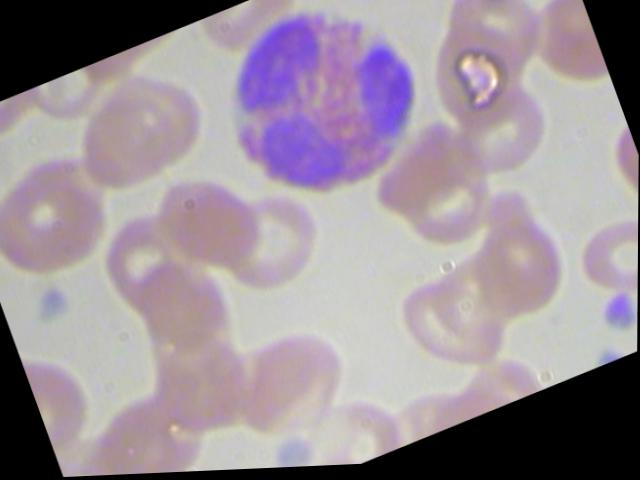Platelets: (26, 275, 84, 336), (590, 292, 637, 343)
Red Blood Cells: (54, 53, 225, 217), (408, 1, 546, 154), (381, 259, 515, 400), (0, 144, 122, 298), (139, 154, 272, 291), (455, 201, 581, 340), (202, 181, 334, 309), (437, 75, 564, 201), (564, 200, 638, 322)
White Blood Cells: (188, 0, 452, 236)
